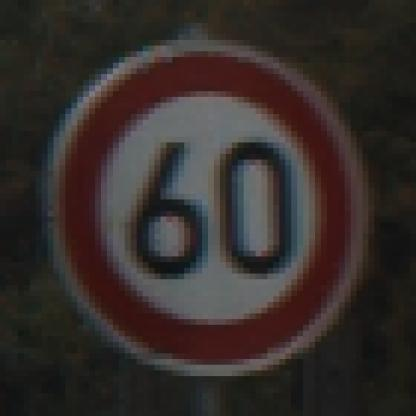Speed Limit 60: (53, 46, 356, 372)
